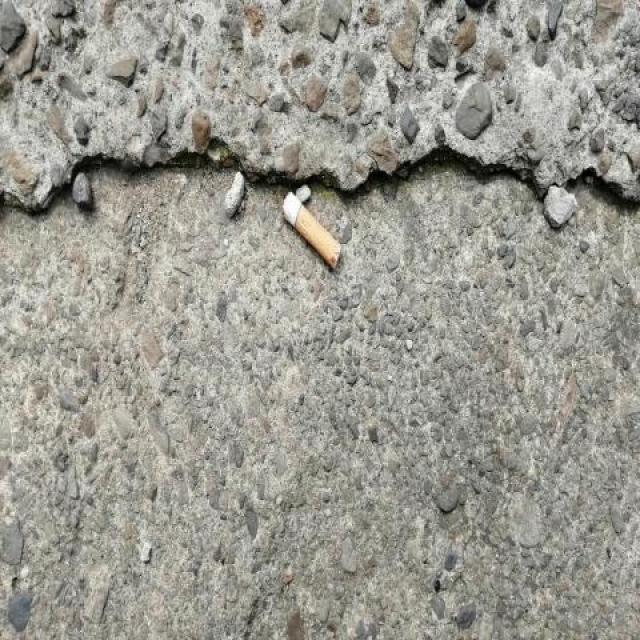non-organic waste: (279, 186, 344, 275)
